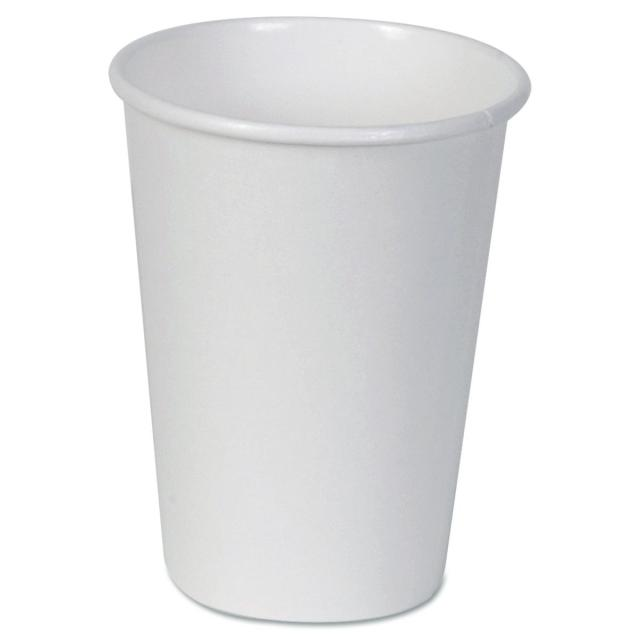paper cup: (106, 16, 530, 623)
